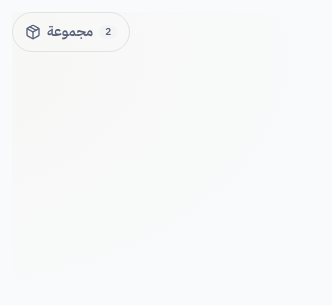
Test: the + at the end of every list › finds a product by barcode too — the gun works in the picker
The width and height of the screenshot is (332, 305).
Click the button with test id "quick-card-a" at point(71, 32), box 13,13 -> 129,51
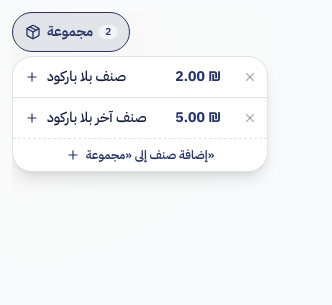
Click the button "إضافة صنف إلى «مجموعة»" at point(140, 154), box 13,138 -> 267,171
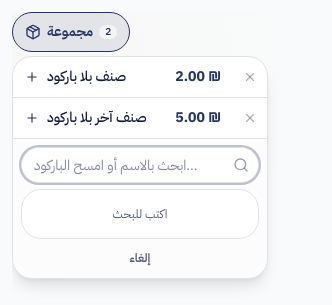
Type "111222" into the field named "ابحث عن صنف لإضافته" at point(140, 165), box 21,147 -> 259,183
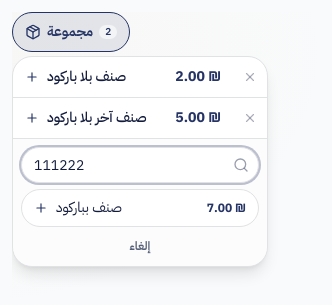
Expected: the text "صنف بباركود" is shown, 56,197 -> 122,218
